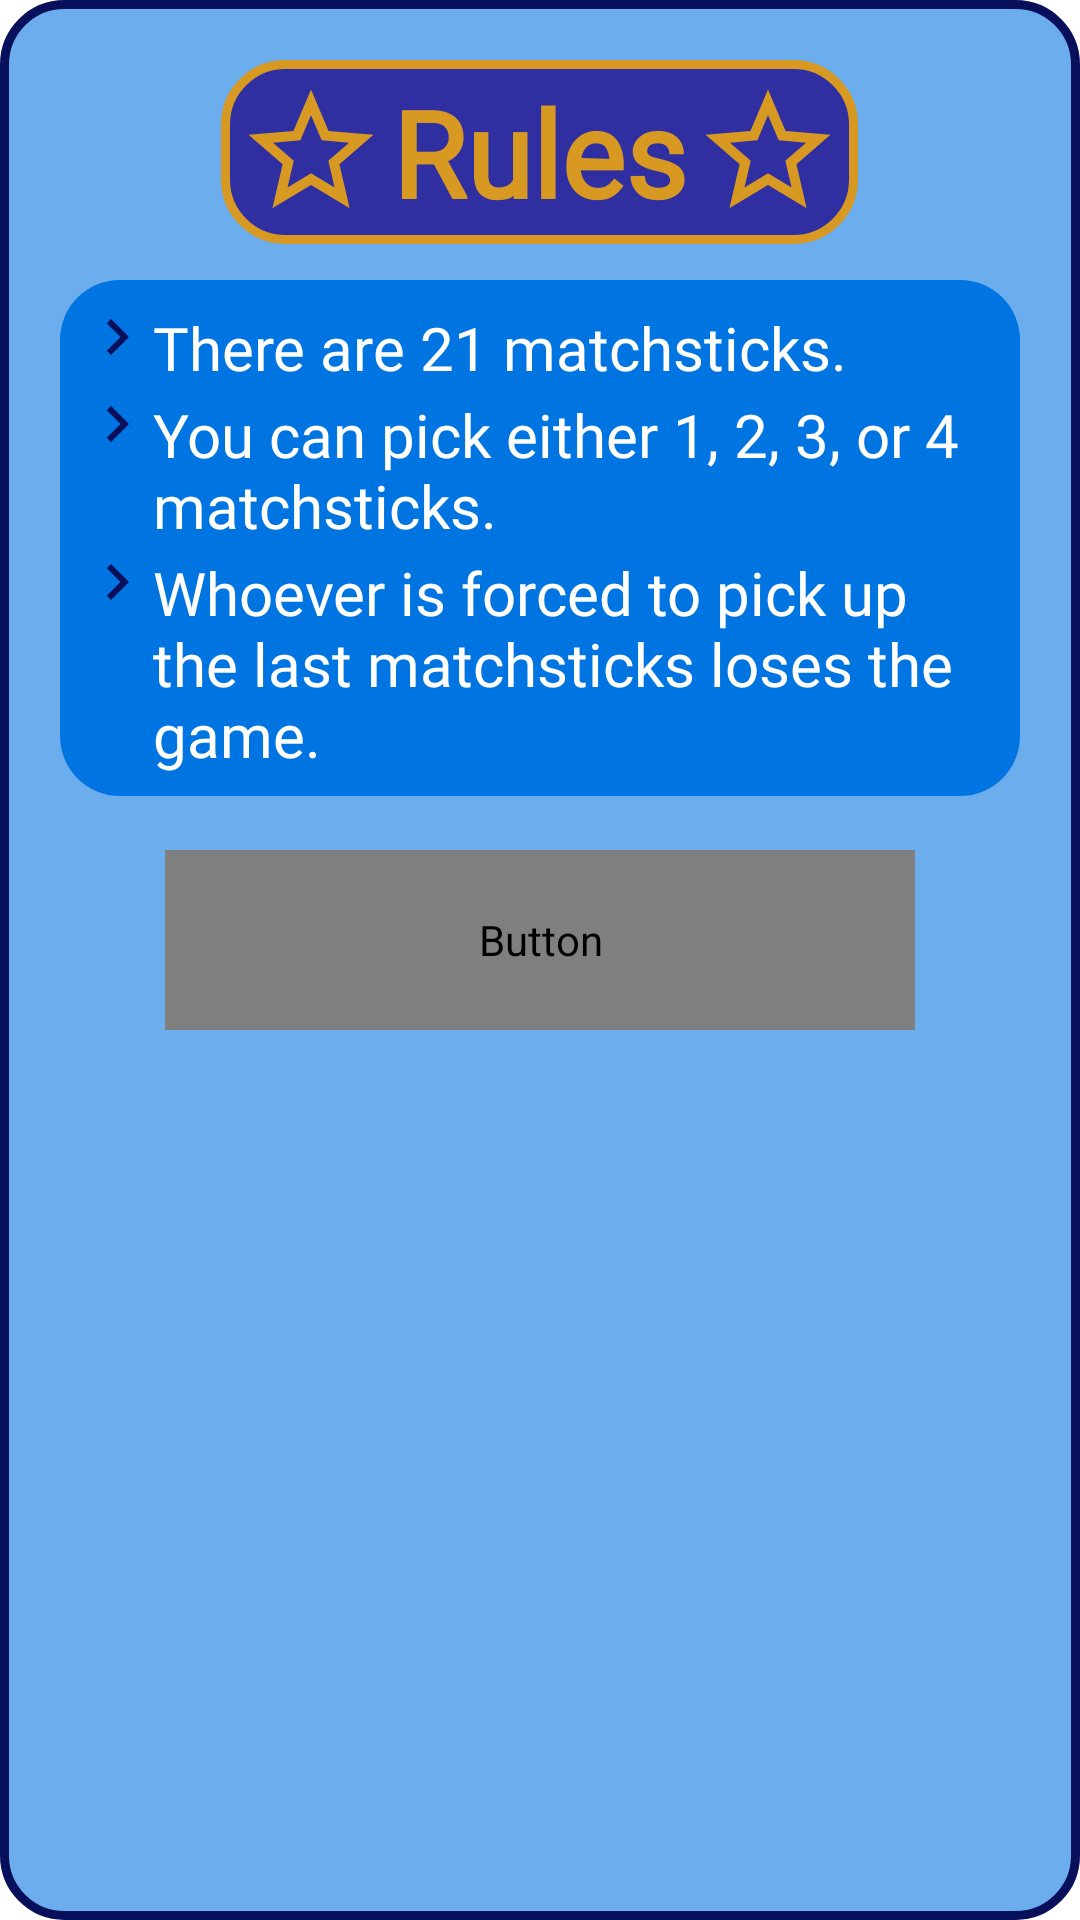

Named icons in this screenshot (1080*1920) and their centers, point (x, y):
star: point (311, 149), point (768, 149)
